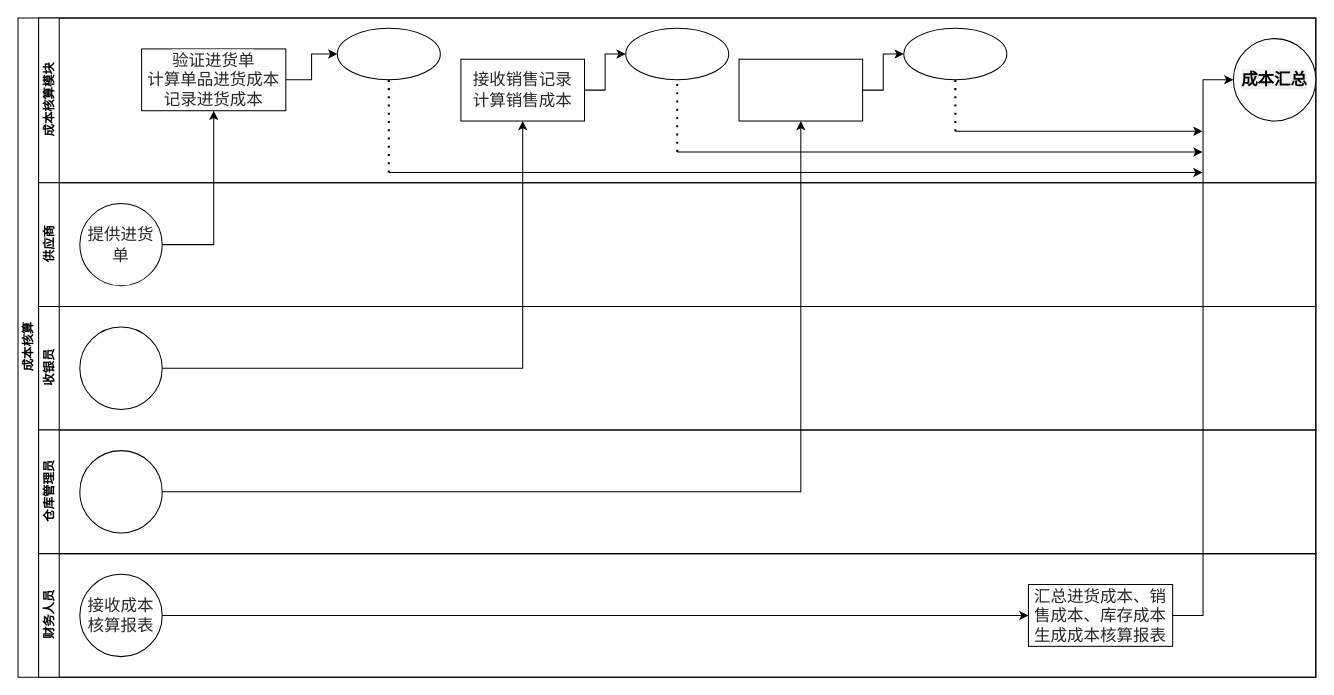
Some shapes in this 1334 by 695 pixel diagram are drawn without their labels. The shapes that lost their labels are listed below. From the top down, each one's centre as x and y in pixels, then its label:
At (388,53): "进货成本计算".
At (677,53): "销售成本计算".
At (955,53): "库存成本计算".
At (800,89): "接收库存变动单 计算库存成本".
At (120,367): "提供销售记录".
At (120,491): "提供库存变动单".
